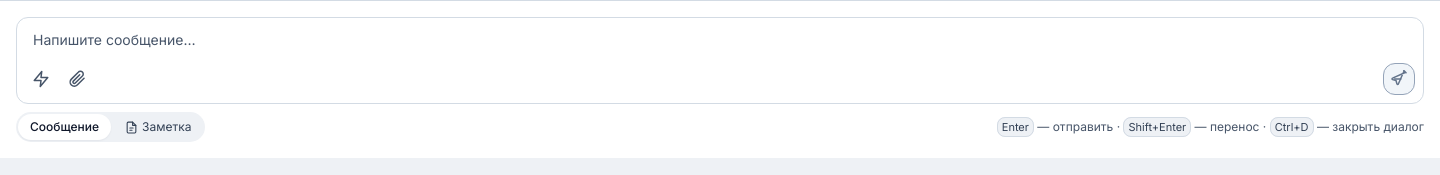
Test case: Сохранение быстрого ответа из чата › кнопки нет на обрывке и она есть на фразе
Type "ок" into the text box named "Текст сообщения". click: (720, 40)
box: x1=25 y1=26 x2=1415 y2=54
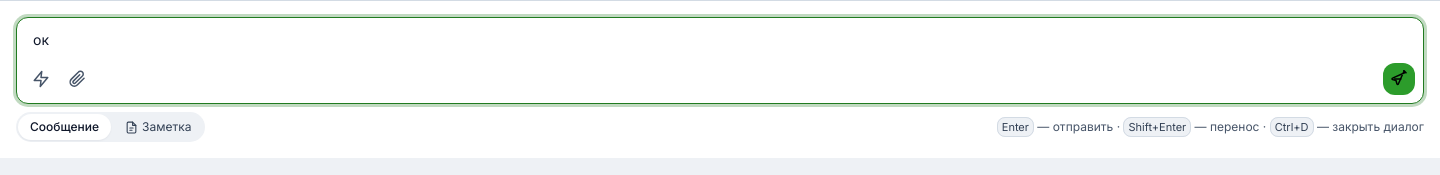
Replace the text in the text box named "Текст сообщения" with "Здравствуйте, чем могу помочь?". click: (720, 40)
box: x1=25 y1=26 x2=1415 y2=54
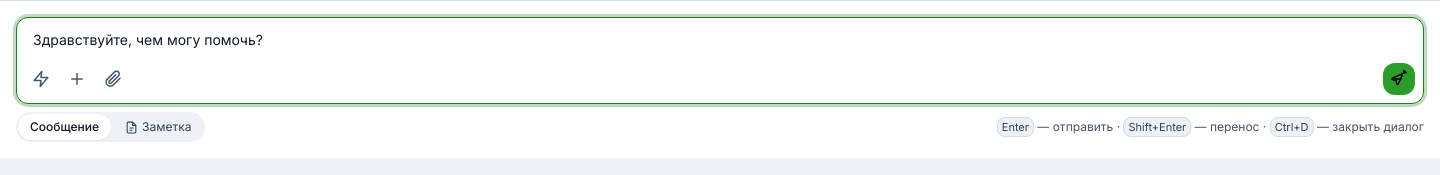
Check: the button named "Сохранить как быстрый ответ" is shown, box x1=61 y1=63 x2=93 y2=95
